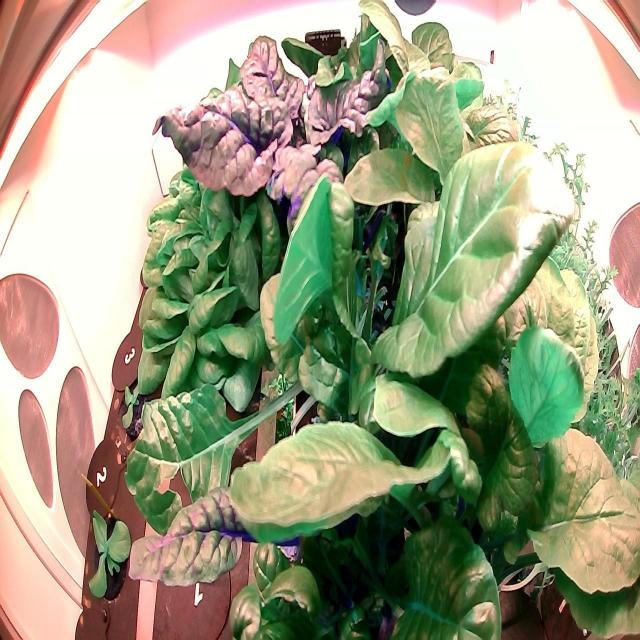Ready: (128, 56, 282, 417)
empty_pod: (154, 516, 234, 638)
young: (80, 496, 142, 614), (113, 372, 154, 452)
